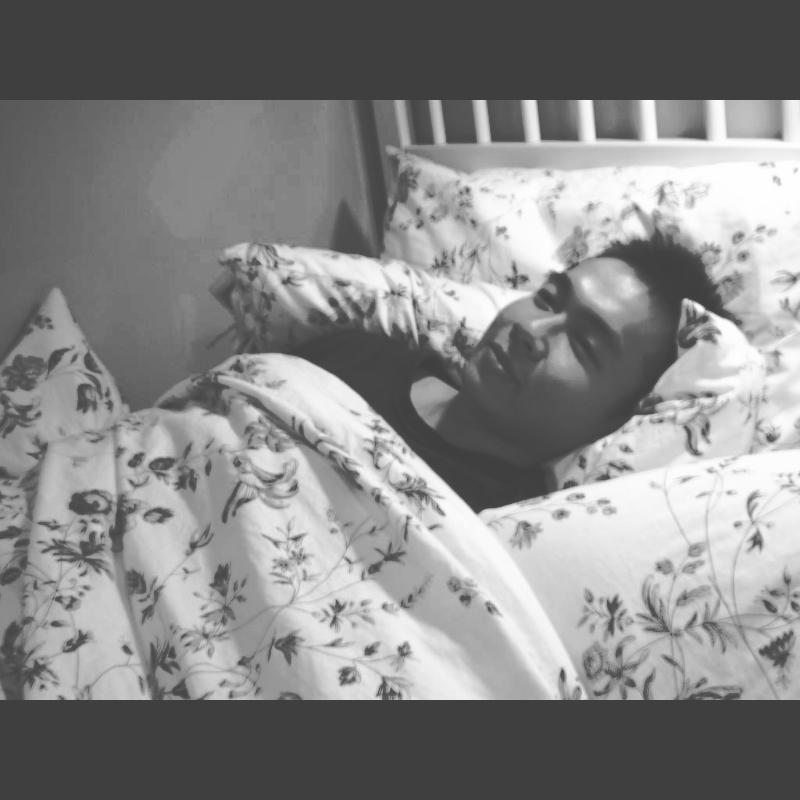pillow: (219, 254, 769, 500), (382, 150, 796, 458)
